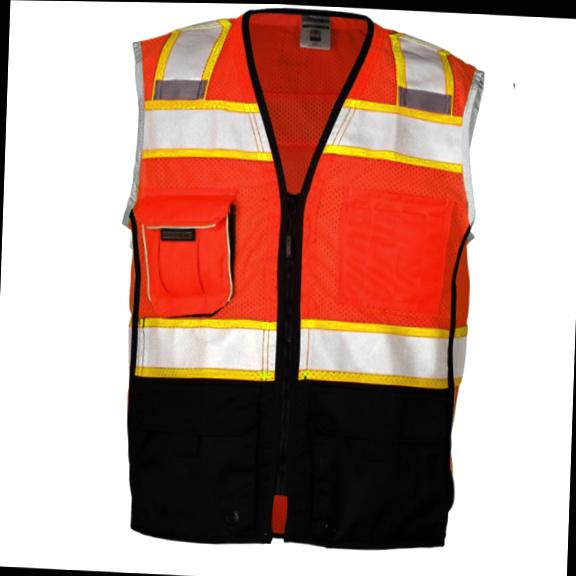safety_vest: (110, 2, 492, 556)
